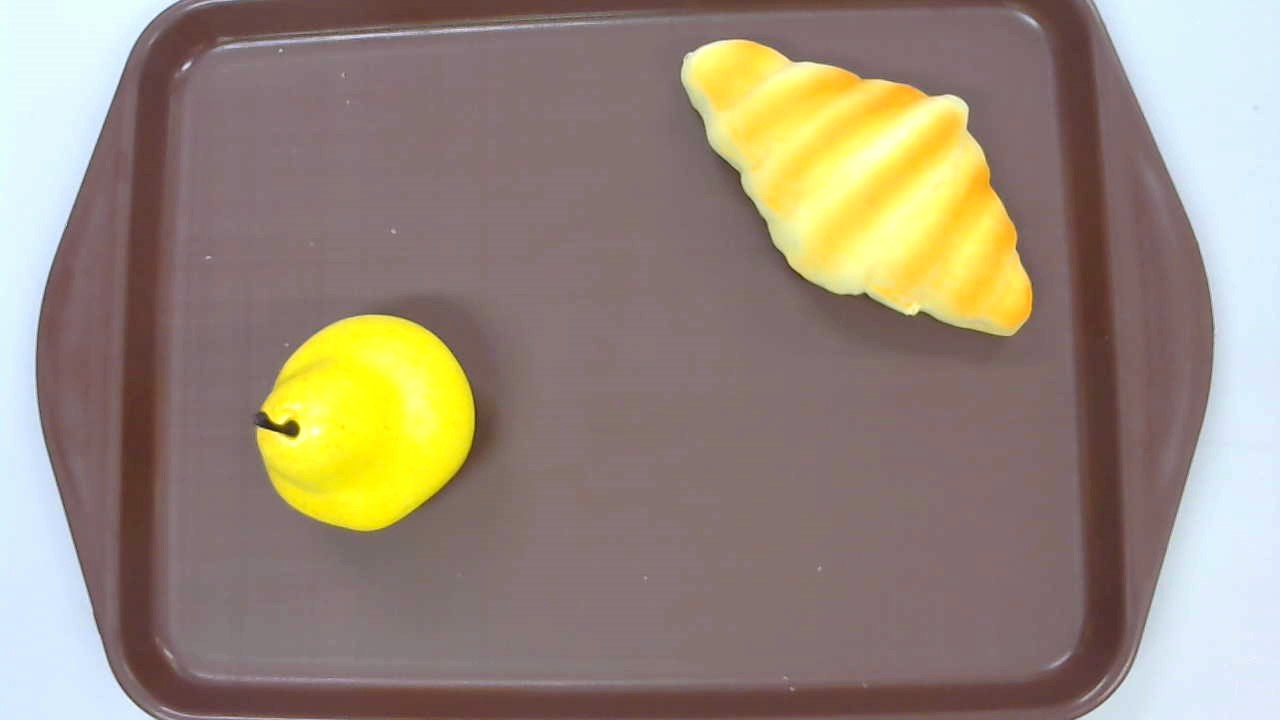croissant: (681, 37, 1033, 338)
yellow pear: (255, 312, 475, 529)
